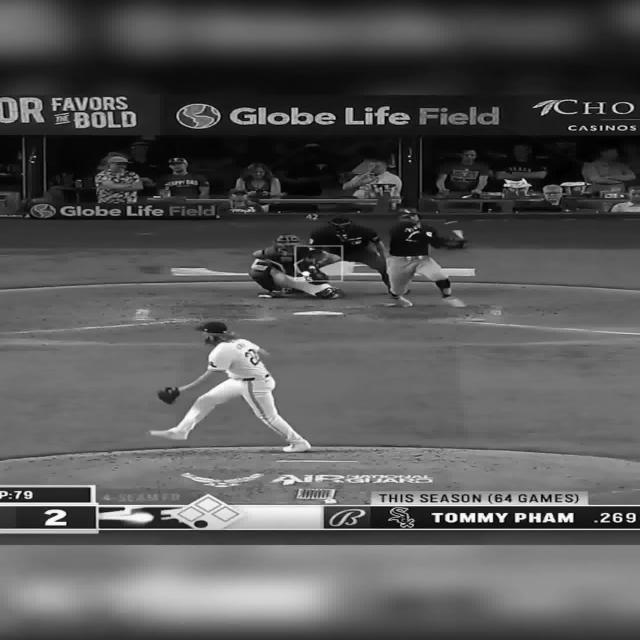baseball_glove: (156, 386, 180, 404), (295, 260, 310, 274)
shoe: (148, 429, 188, 440), (281, 440, 311, 452), (314, 286, 344, 298), (441, 295, 466, 308), (388, 288, 410, 298), (257, 289, 281, 298), (396, 296, 412, 307)
